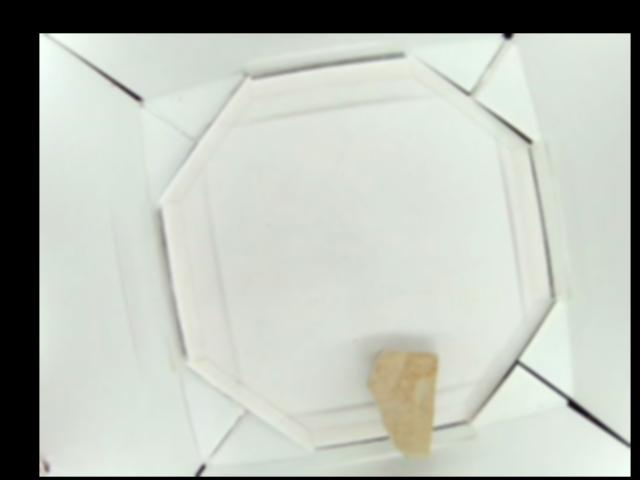China: (366, 353, 437, 459)
